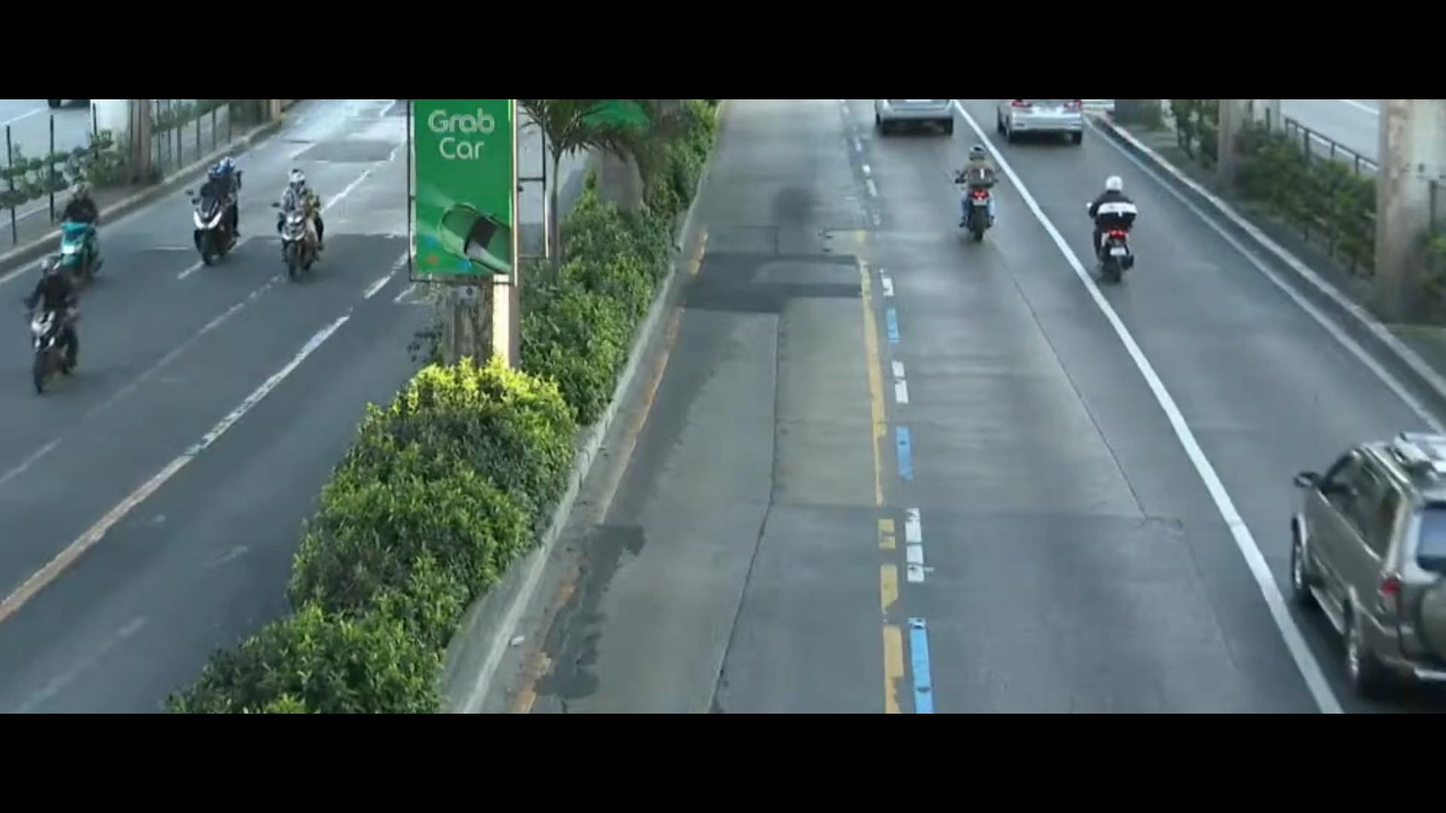Motorcycle: (2, 259, 87, 403), (925, 138, 1002, 247), (260, 164, 332, 277), (185, 149, 244, 262), (50, 177, 119, 273)
SUV: (1256, 418, 1446, 711), (1057, 164, 1145, 282)
